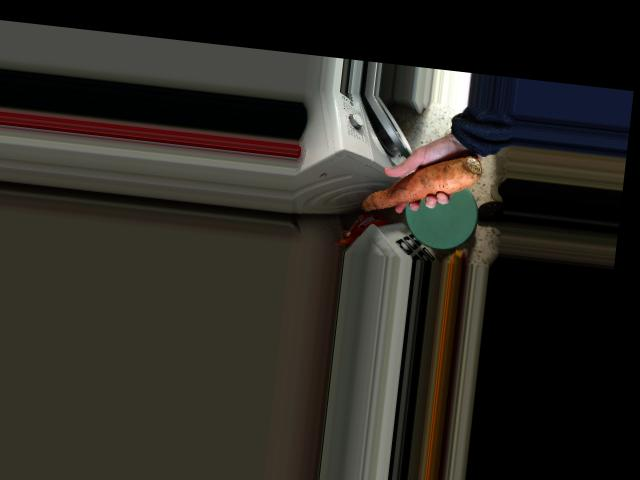sweet_potato: (352, 140, 485, 229)
